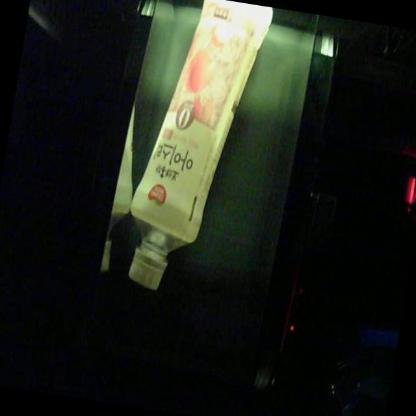Plastic Bottle: (130, 9, 272, 289)
